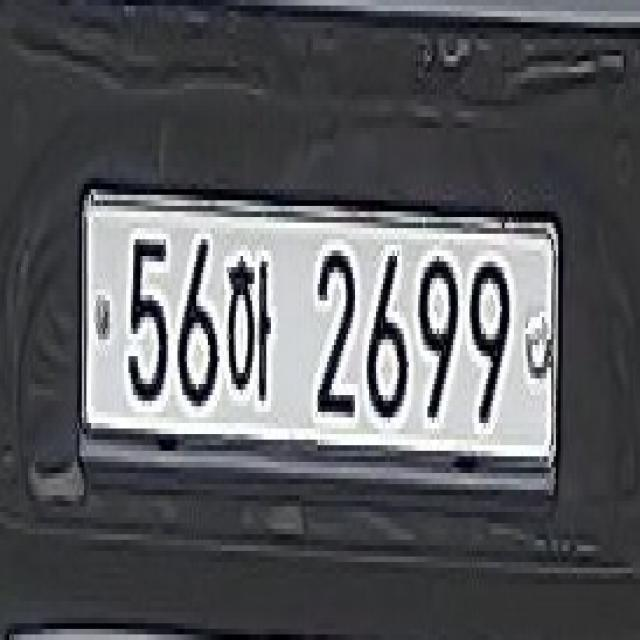2: (311, 236, 358, 429)
5: (123, 222, 171, 408)
6: (361, 235, 412, 425), (174, 218, 222, 410)
9: (464, 240, 516, 434), (414, 239, 460, 428)
ha: (224, 240, 280, 410)
license_plate: (80, 173, 564, 500)
